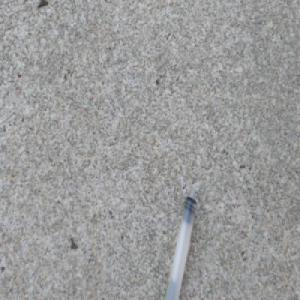Pen: (162, 194, 197, 300)
